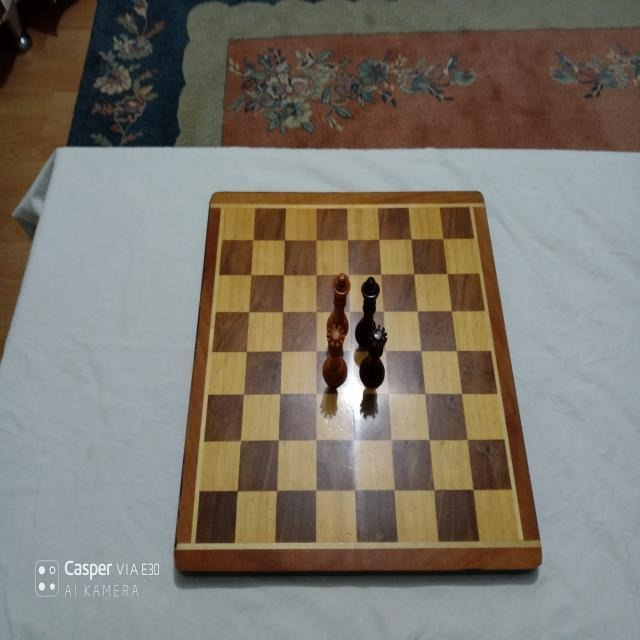black-king: (355, 275, 381, 348)
black-queen: (359, 323, 388, 389)
white-king: (325, 273, 350, 339)
white-queen: (320, 322, 347, 386)
